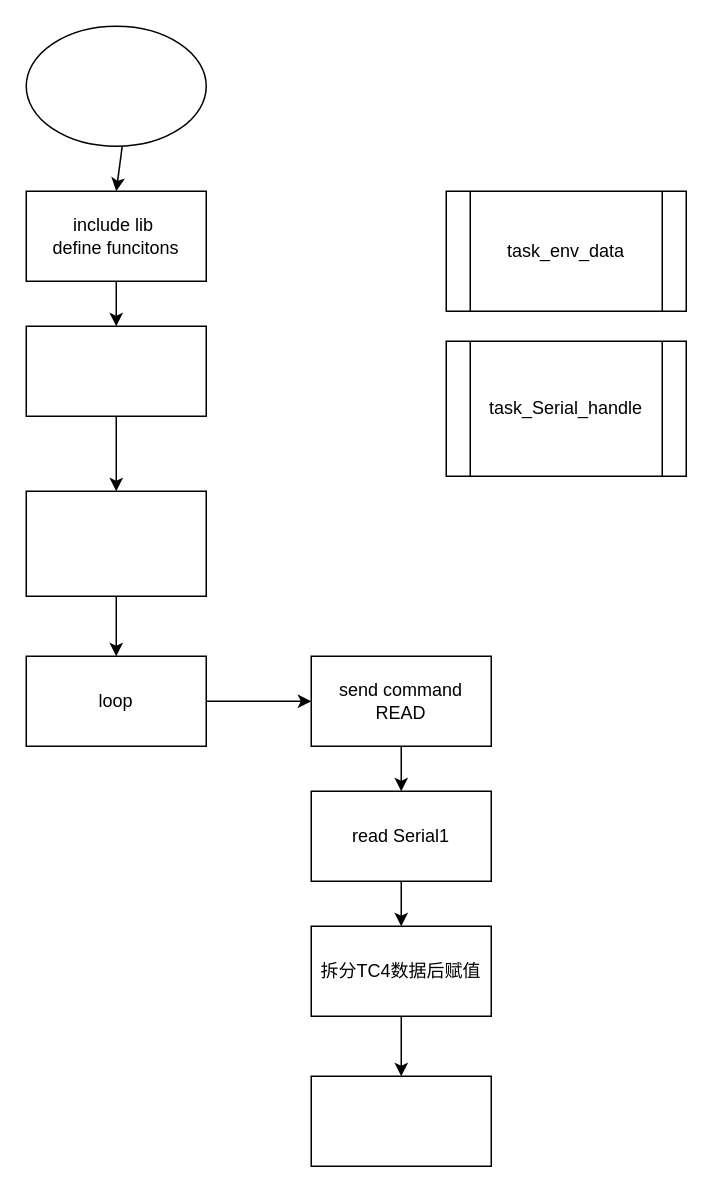
The diagram is 713 pixels wide and 1193 high, and some of its shapes have lost their labels. The centre of each missing label's shape, as x and y in pixels:
declear Task: the point at 115,370
setup: the point at 115,85
star WebService: the point at 115,543
